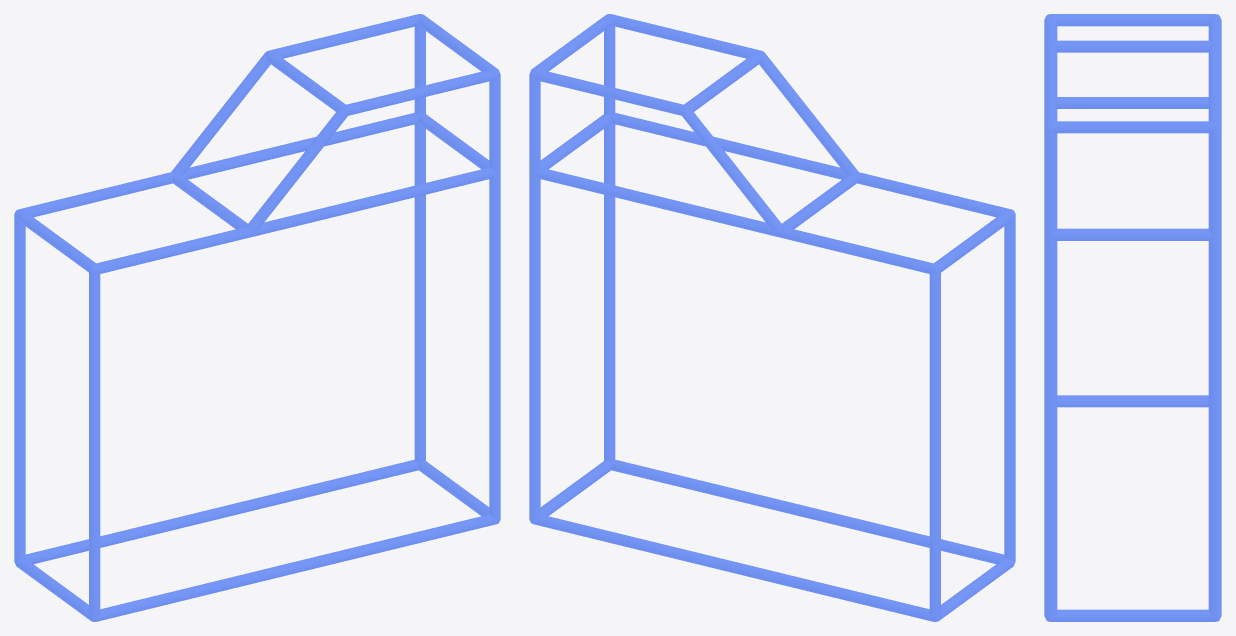
3 renders of one model, left to right at view 1: azimuth 30°, elevation 25°; view 2: azimuth 150°, elevation 25°; view 3: azimuth 270°, elevation 25°, orthographic. The views are drawn at different scales.
Parts seen in each view (by area): view 1: 晶格_1; view 2: 晶格_1; view 3: 晶格_1.
Part boxes in pixels (<box>): 晶格_1: <box>14,14,500,621</box>; 晶格_1: <box>529,14,1015,621</box>; 晶格_1: <box>1044,14,1221,621</box>.
Size of the model in its own units: 160 by 170 by 54.46.
